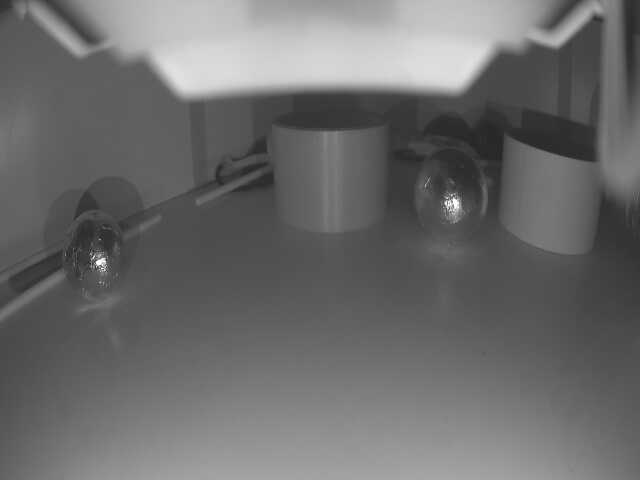Live: (417, 147, 488, 240), (57, 215, 129, 305)
